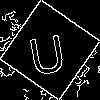U: (25, 25, 69, 76)
